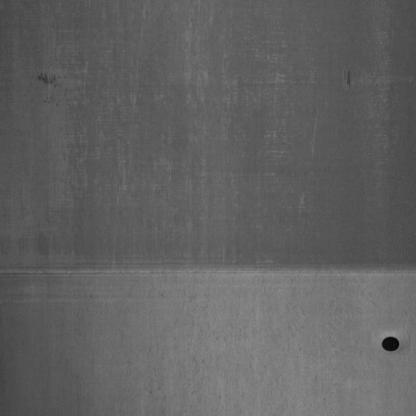oil_spot: (33, 66, 63, 111)
punching_hole: (377, 328, 404, 357)
rolled_pit: (339, 66, 357, 98)
welding_line: (2, 260, 416, 286)
